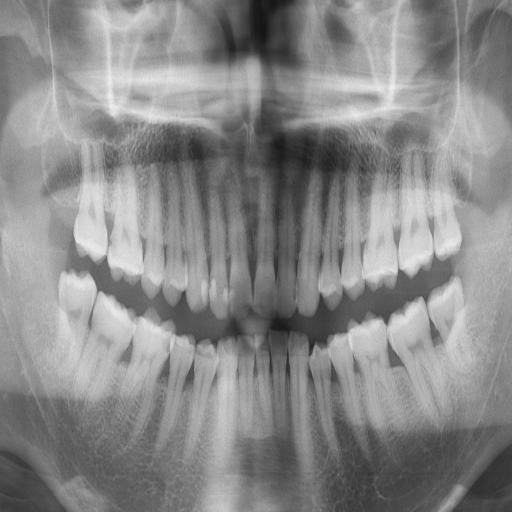Wisdom teeth: (59, 272, 96, 354), (431, 169, 461, 260), (427, 278, 465, 345)
